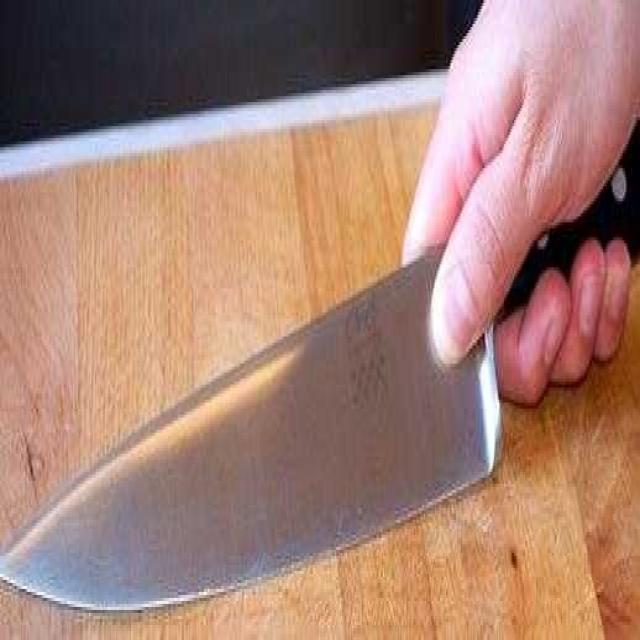Knife: (0, 86, 640, 620)
